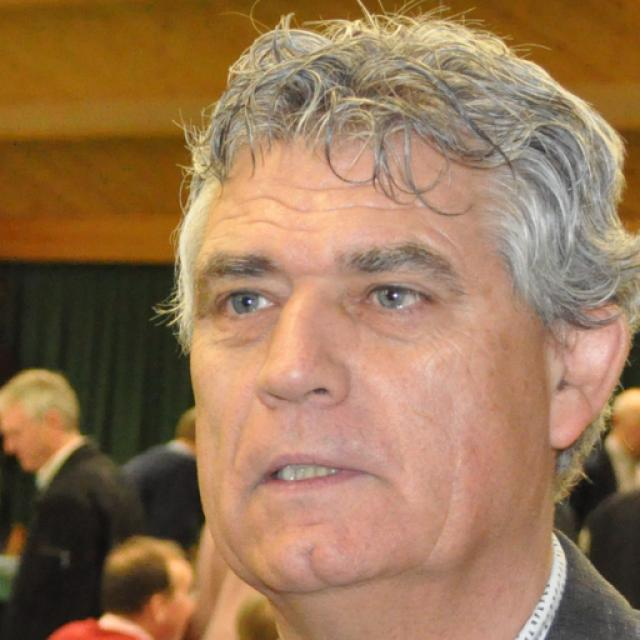Wrinkle: (246, 185, 425, 220), (239, 210, 313, 237), (215, 205, 258, 234)
